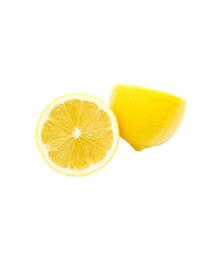lemon: (34, 92, 120, 179), (108, 84, 187, 154)
